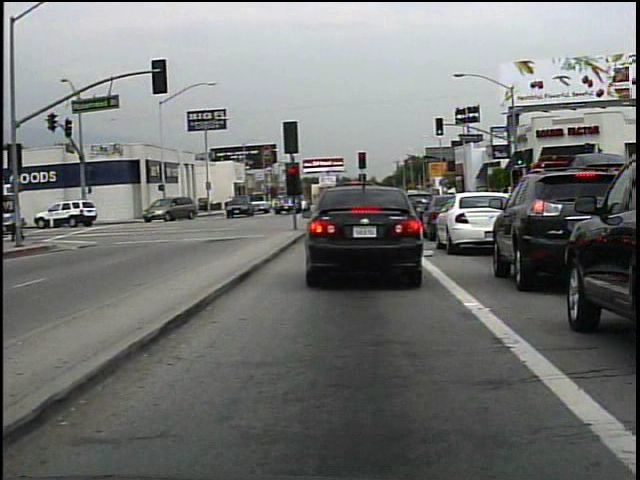person: (9, 204, 32, 246), (232, 192, 233, 206)
